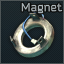Magnet: (0, 0, 64, 64)
